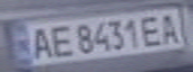1: (121, 16, 145, 50)
3: (106, 17, 127, 52)
4: (90, 19, 112, 53)
8: (72, 20, 96, 55)
A: (24, 24, 54, 61), (154, 10, 184, 44)
E: (45, 21, 75, 59), (139, 12, 169, 47)
